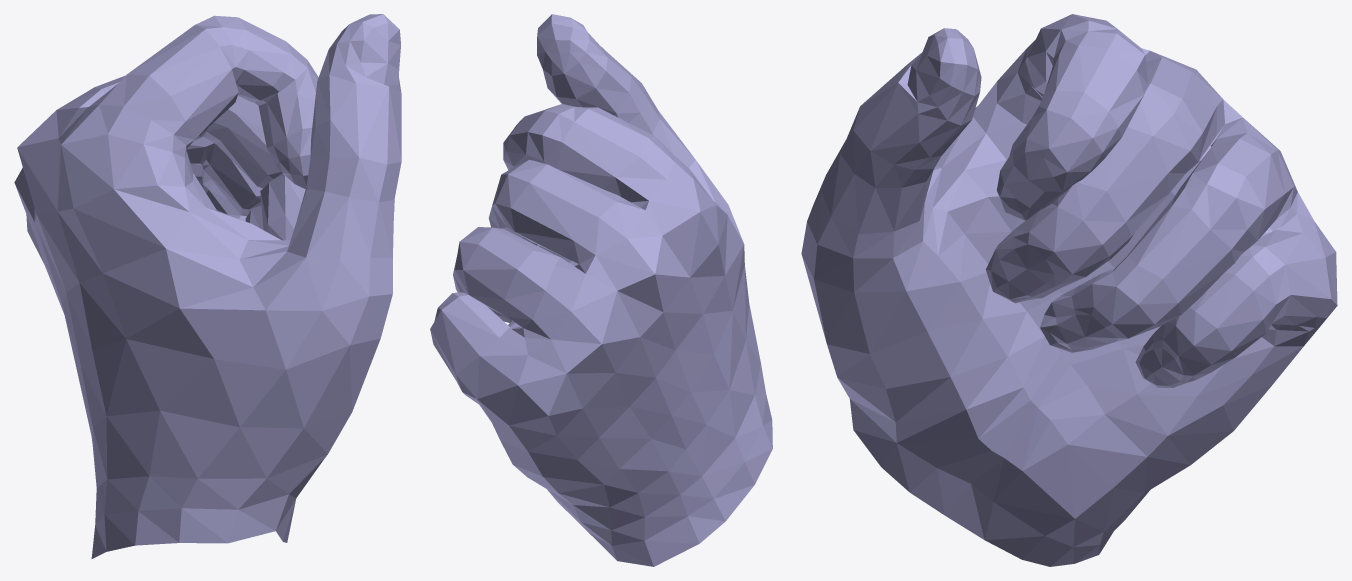
The model's file is frame_0014_source_000014_hand.glb.
3 views of the same model, side by side, from view 1: azimuth 30°, elevation 25°; view 2: azimuth 150°, elevation 25°; view 3: azimuth 270°, elevation 25° (orthographic). The views are drawn at different scales.
Visible parts, largest first — view 1: world; view 2: world; view 3: world.
Boxes of the visible parts, x1=… form: world: x1=14, y1=14, x2=401, y2=558; world: x1=430, y1=14, x2=772, y2=566; world: x1=801, y1=14, x2=1337, y2=566.
Size of the model in its own units: 0.0621 by 0.1216 by 0.0995.
